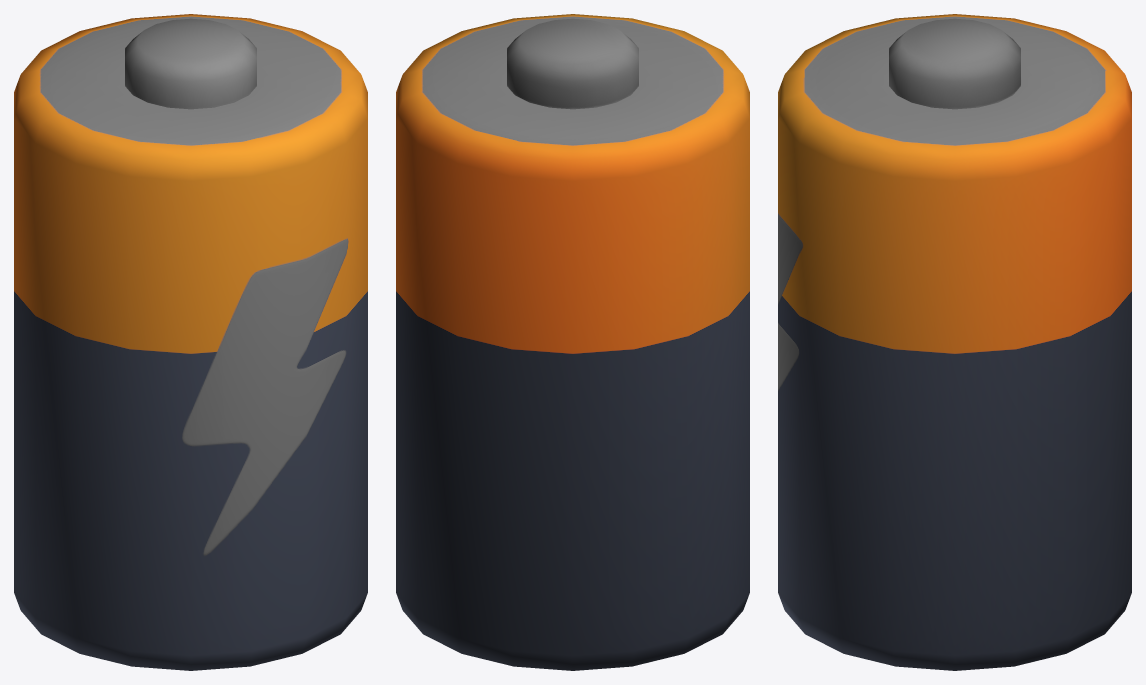
The model's file is Battery.FBX.
3 views of the same model, side by side, from view 1: azimuth 30°, elevation 25°; view 2: azimuth 150°, elevation 25°; view 3: azimuth 270°, elevation 25° (orthographic).
Parts seen in each view (by area): view 1: Battery; view 2: Battery; view 3: Battery.
Boxes of the visible parts, x1,y1,x2,y2 form: Battery: (14, 14, 367, 670); Battery: (396, 14, 749, 670); Battery: (778, 14, 1131, 670).
Size of the model in its own units: 51.24 by 88.5 by 50.46.
